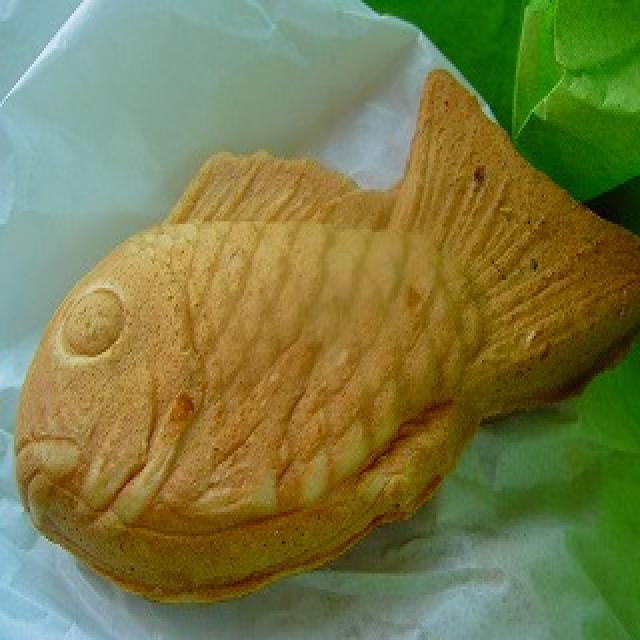熟制海鲜: (12, 53, 640, 608)
